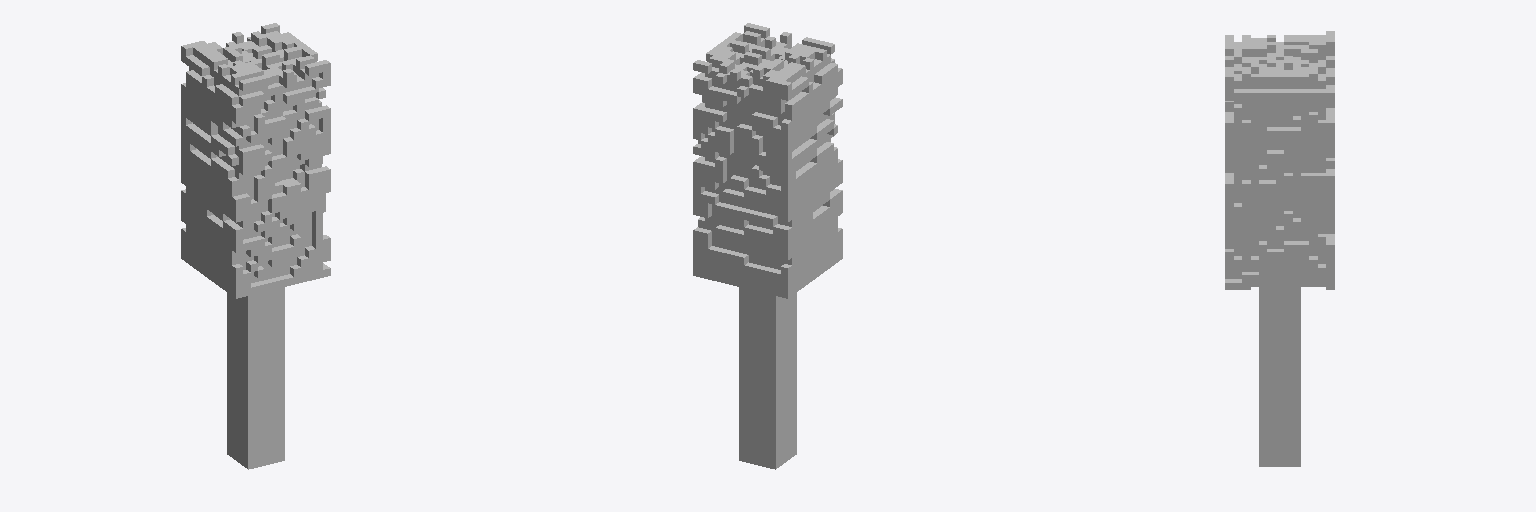
The model's file is tree3.obj.
The picture shows the model from 3 angles: view 1: azimuth 30°, elevation 25°; view 2: azimuth 150°, elevation 25°; view 3: azimuth 270°, elevation 25°; orthographic projection.
Parts seen in each view (by area): view 1: object 1; view 2: object 1; view 3: object 1.
Part boxes in pixels (left/top/right/bottom): object 1: left=181, top=23, right=330, bottom=469; object 1: left=693, top=23, right=842, bottom=469; object 1: left=1225, top=31, right=1334, bottom=466.
Size of the model in its own units: 1.3 by 5.3 by 1.3.